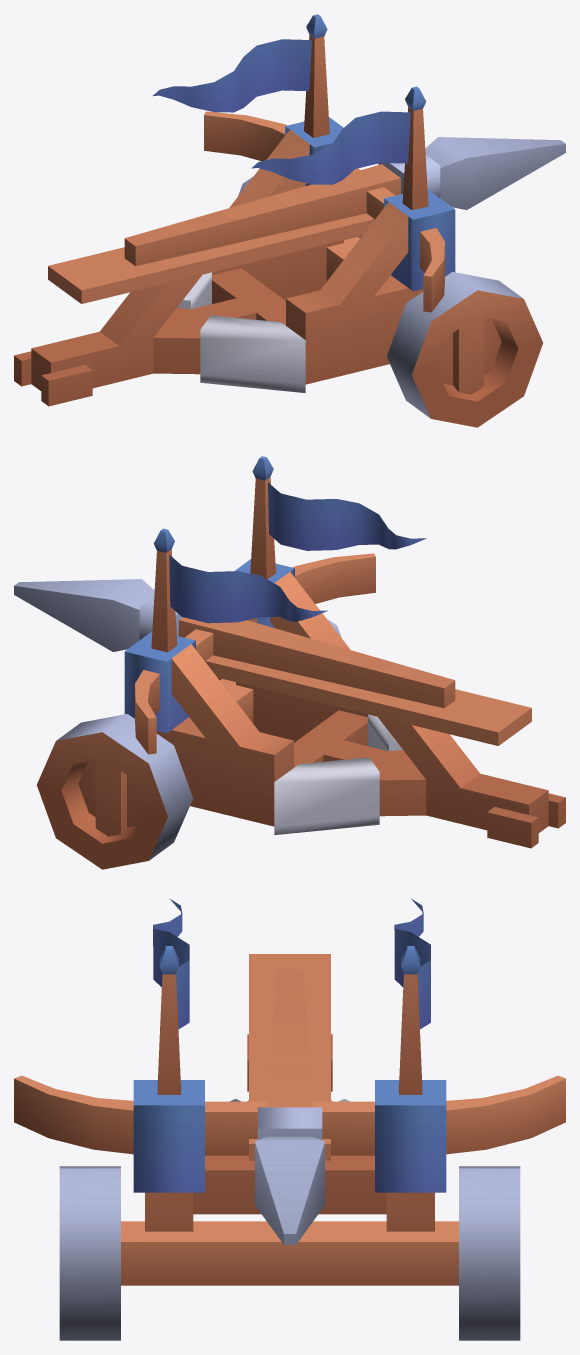
File: siege-ballista.glb
The picture shows the model from 3 angles, top to bottom: view 1: azimuth 30°, elevation 25°; view 2: azimuth 150°, elevation 25°; view 3: azimuth 270°, elevation 25°; orthographic projection. The views are drawn at different scales.
Visible parts, largest first — view 1: siege-ballista, wheel, arrow; view 2: siege-ballista, wheel, arrow; view 3: siege-ballista, wheel (×2), arrow.
Boxes of the visible parts, left/top/right/bottom form: siege-ballista: left=14, top=14, right=455, bottom=406; wheel: left=387, top=272, right=542, bottom=427; arrow: left=124, top=137, right=565, bottom=266; siege-ballista: left=124, top=456, right=565, bottom=848; wheel: left=37, top=714, right=192, bottom=869; arrow: left=14, top=579, right=455, bottom=708; siege-ballista: left=14, top=898, right=565, bottom=1285; wheel (×2): left=59, top=1166, right=520, bottom=1340; arrow: left=255, top=968, right=324, bottom=1244.
Bounding box in the file's own units: 1.63 × 0.9103 × 1.2.
1 material, 1 textured.
